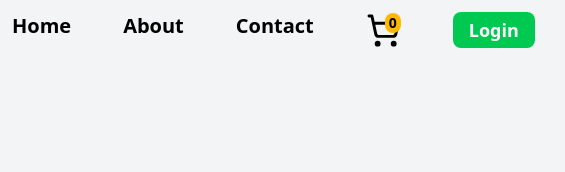
Test: header nav component › should change the login button to logout on click
Click the list item "Login". click: [494, 30]
box: [453,12,535,48]
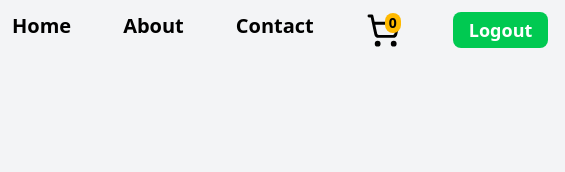
Expected: the list item "Logout" is shown, [453,12,548,48]
